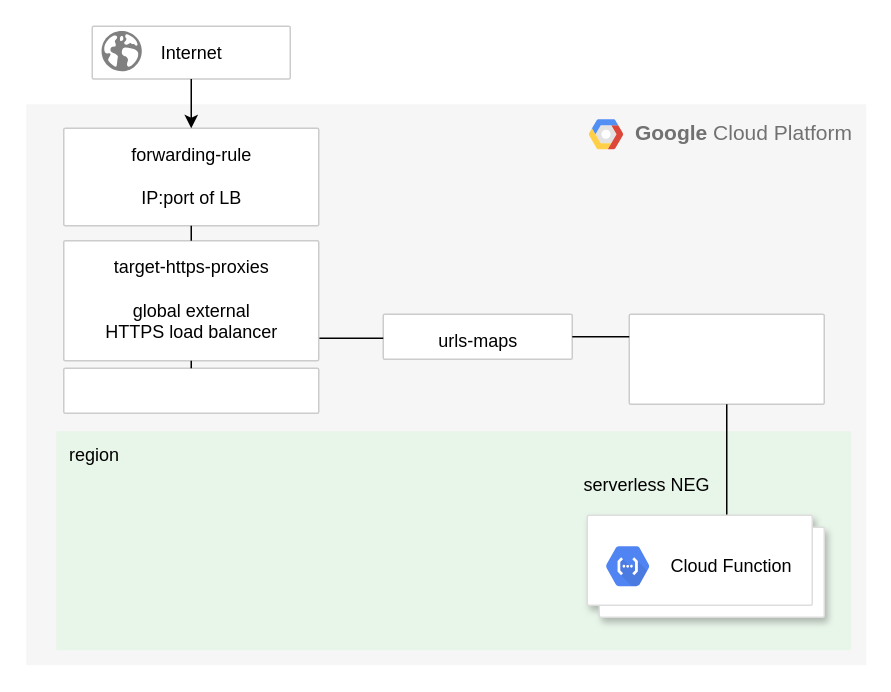
This 891x692 diagram has some shape labels left out. Each missing label, with the centre of its shape:
"backend-services" belongs at (726,358).
"ssl-certificates" belongs at (190,390).
